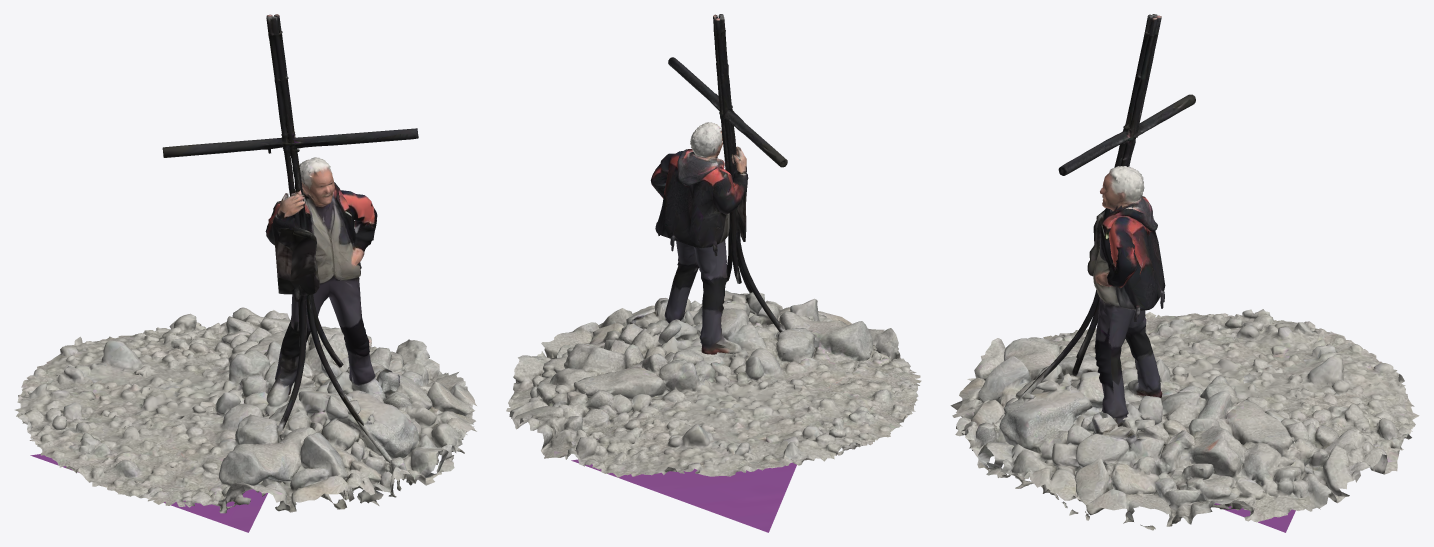
File: mattei.glb
3 views of the same model, side by side, from view 1: azimuth 30°, elevation 25°; view 2: azimuth 150°, elevation 25°; view 3: azimuth 270°, elevation 25° (orthographic). The views are drawn at different scales.
Visible parts, largest first — view 1: Mesh_0; view 2: Mesh_0; view 3: Mesh_0.
Part boxes in pixels (<box>): Mesh_0: <box>15,14,476,532</box>; Mesh_0: <box>506,14,921,532</box>; Mesh_0: <box>950,14,1419,532</box>.
Size of the model in its own units: 1.08 by 1.2 by 1.09.
1 material, 1 textured.
